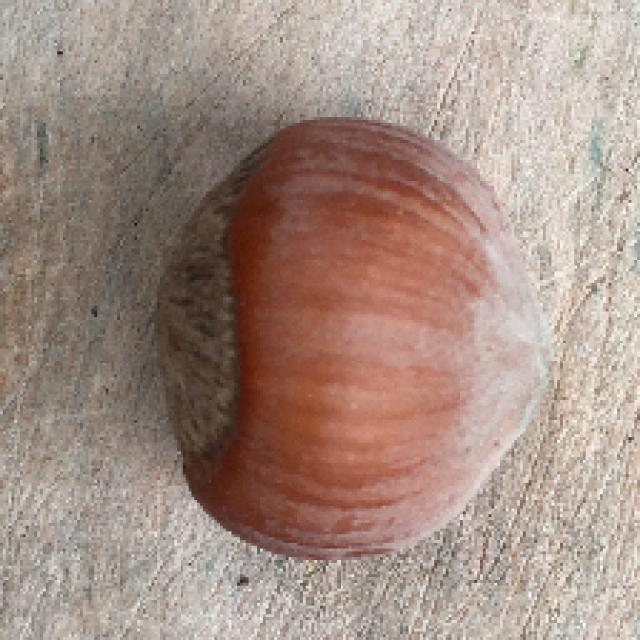QualityHazelnut: (161, 124, 559, 564)
